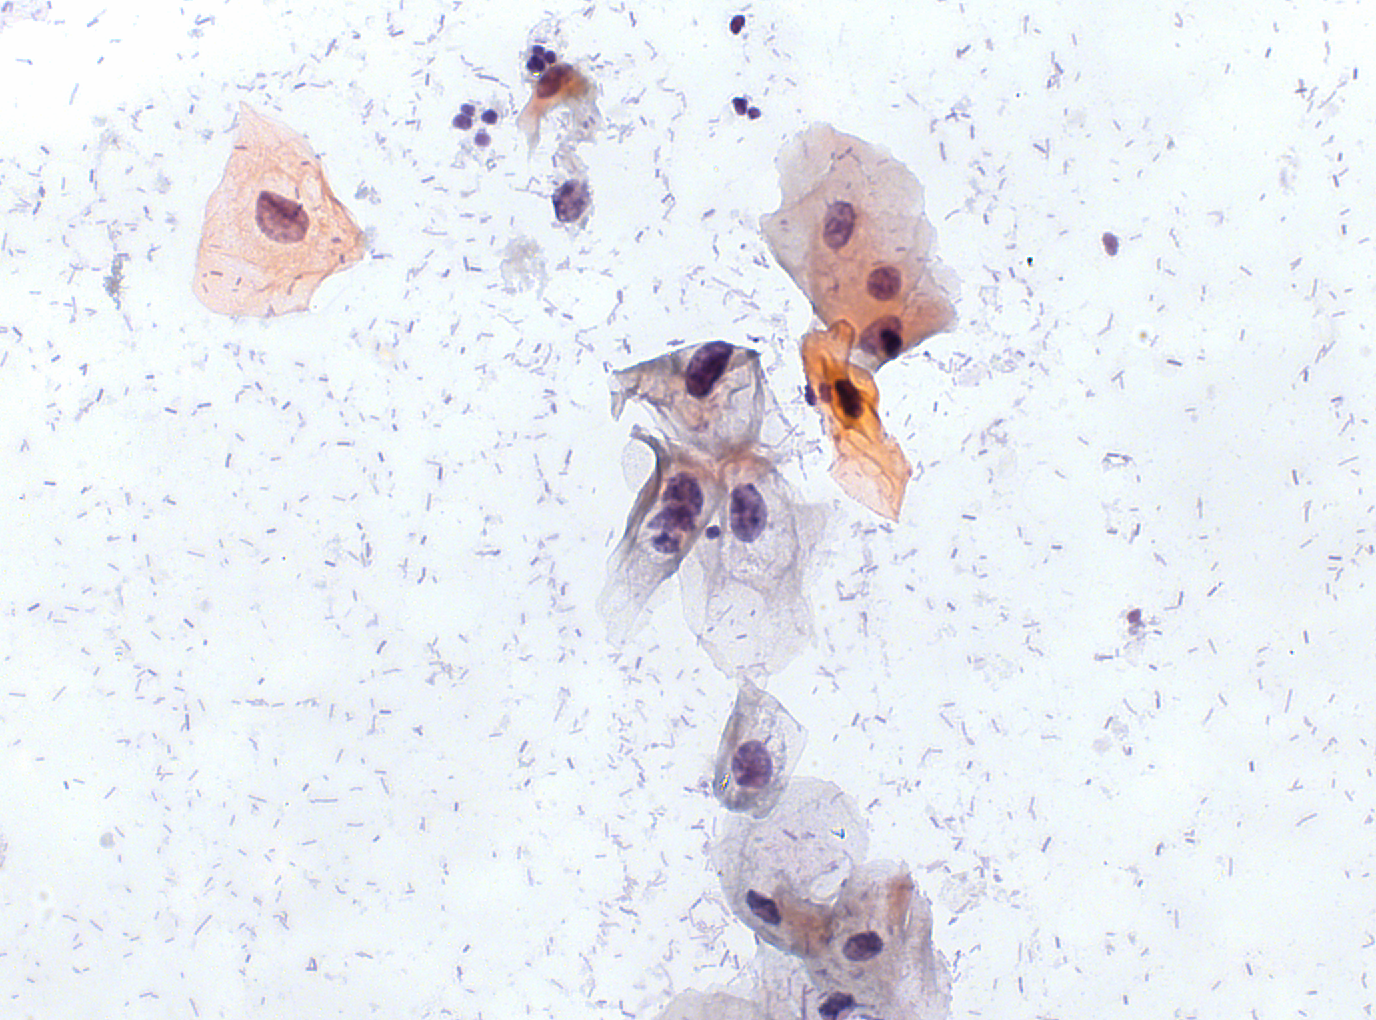Abn: (254, 189, 310, 245), (684, 337, 734, 397), (728, 480, 767, 543), (645, 510, 696, 555), (663, 470, 704, 519), (732, 738, 772, 787), (831, 376, 864, 421)
